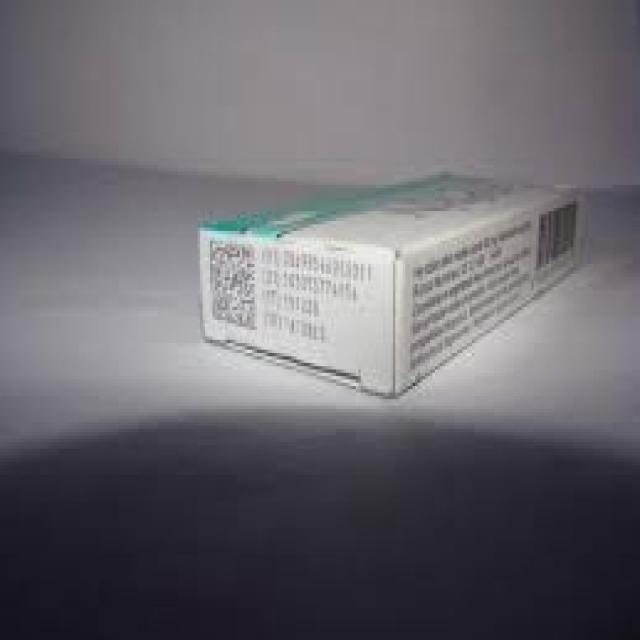datamatrix: (205, 231, 260, 333)
